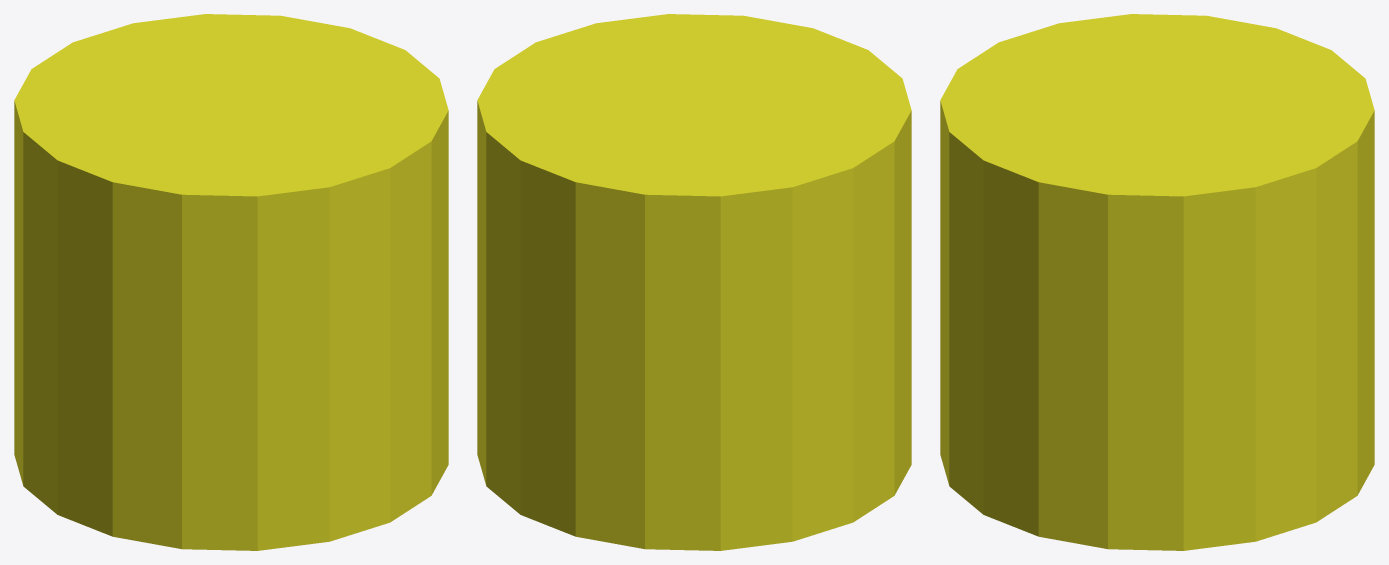
File: cylinder.013_lev3.glb
3 renders of one model, left to right at view 1: azimuth 30°, elevation 25°; view 2: azimuth 150°, elevation 25°; view 3: azimuth 270°, elevation 25°, orthographic.
Visible parts, largest first — view 1: cylinder.013_lev3; view 2: cylinder.013_lev3; view 3: cylinder.013_lev3.
Part boxes in pixels (x1,y1,x2,y2): cylinder.013_lev3: [14, 14, 448, 550]; cylinder.013_lev3: [477, 14, 911, 550]; cylinder.013_lev3: [940, 14, 1374, 550].
Size of the model in its own units: 0.885 by 0.8016 by 0.8901.
